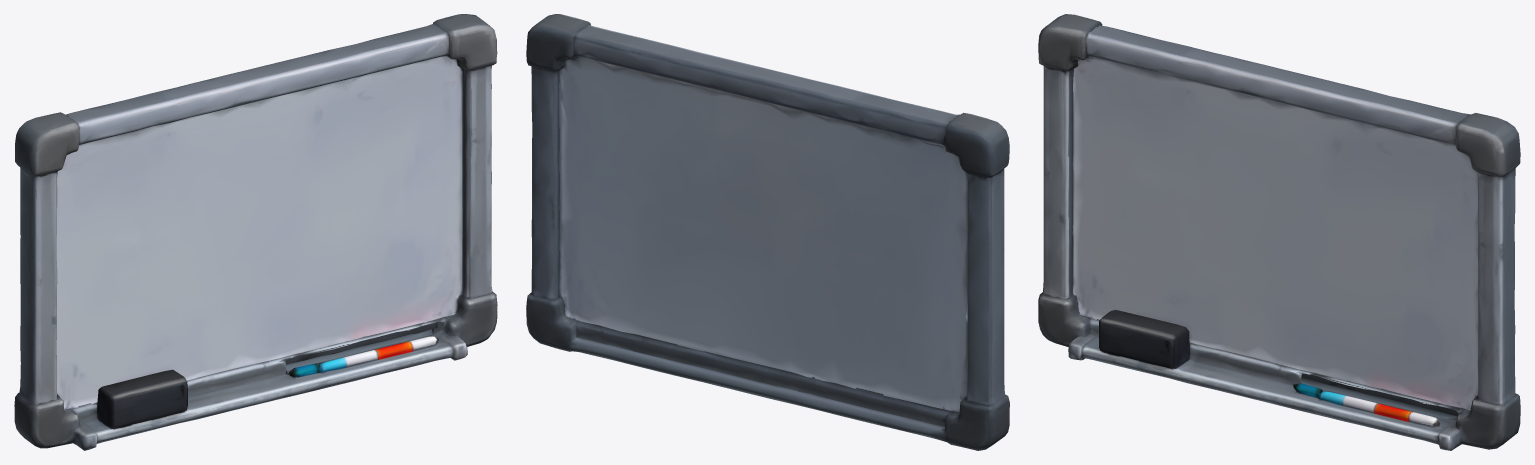
File: lecturehall_Whiteboard.glb
3 views of the same model, side by side, from view 1: azimuth 30°, elevation 25°; view 2: azimuth 150°, elevation 25°; view 3: azimuth 330°, elevation 25° (orthographic).
Visible parts, largest first — view 1: world; view 2: world; view 3: world.
Boxes of the visible parts, bbox=[...] form: world: bbox=[14, 14, 497, 450]; world: bbox=[526, 14, 1009, 450]; world: bbox=[1038, 14, 1520, 450].
Bounding box in the file's own units: 1 × 0.6553 × 0.1151.
1 material, 1 textured.
